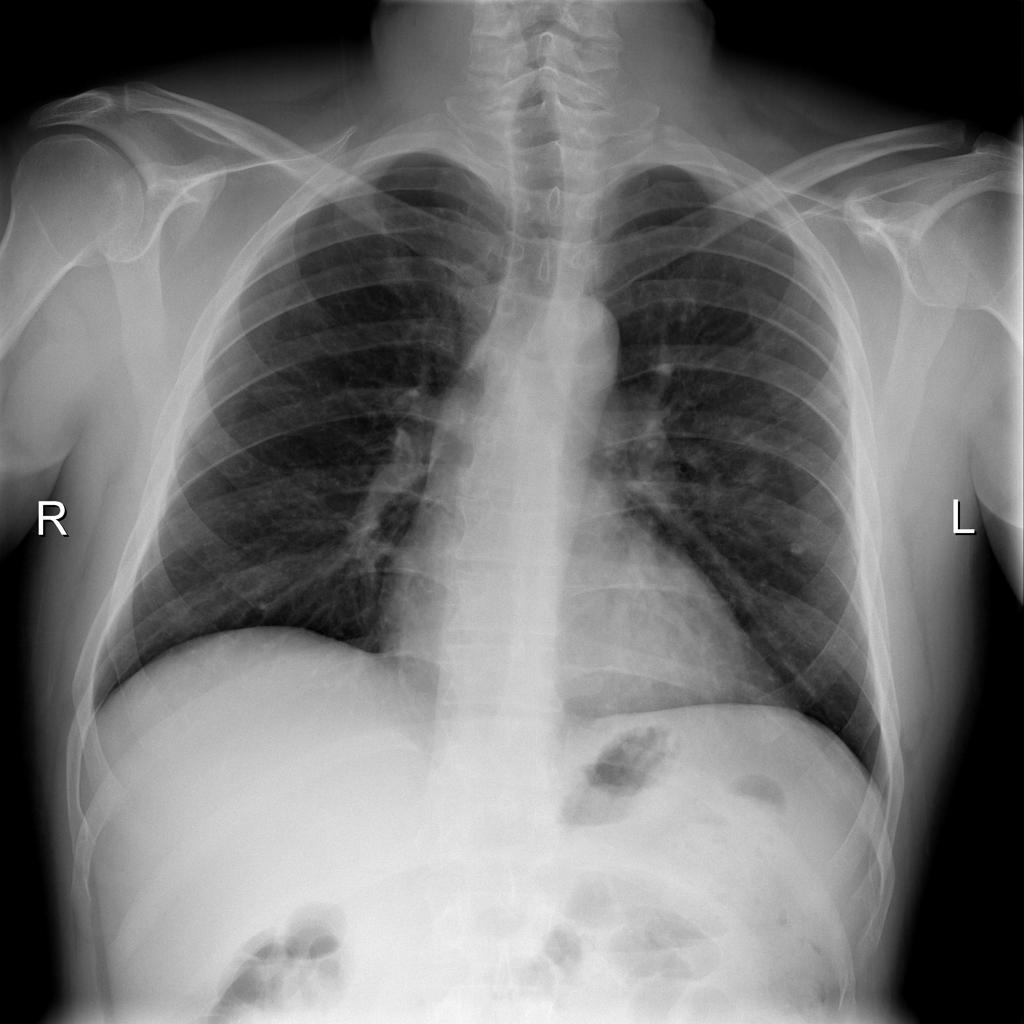nodule: (773, 518, 825, 569)
